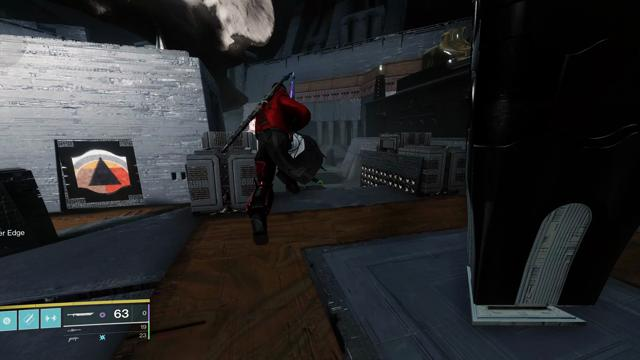pyramid: (70, 149, 131, 194)
